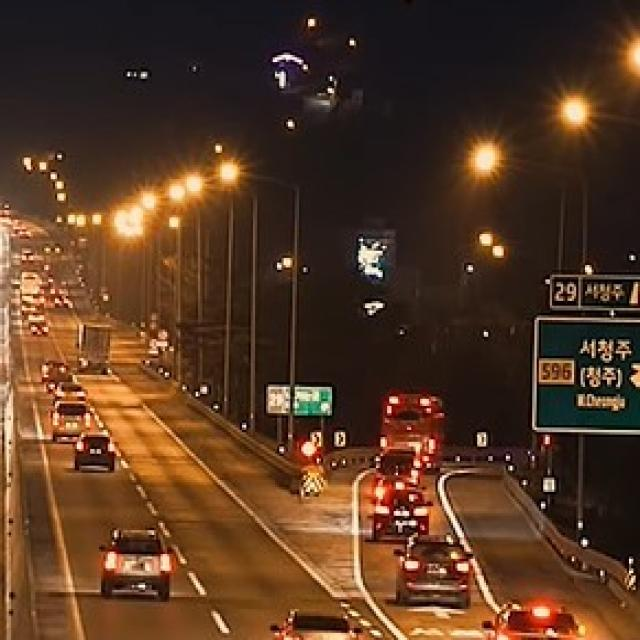bus: (381, 389, 445, 474)
car: (392, 535, 473, 606), (95, 530, 170, 598), (482, 602, 585, 640), (370, 487, 430, 543), (268, 604, 361, 640), (72, 432, 117, 468), (52, 399, 90, 440)
